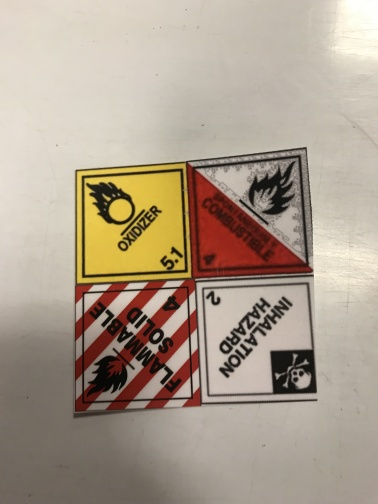FlammableSolid: (75, 280, 202, 413)
InhalationHazard: (197, 279, 319, 403)
Oxidizer: (75, 163, 193, 282)
SpontaneouslyCombustible: (186, 147, 316, 278)
